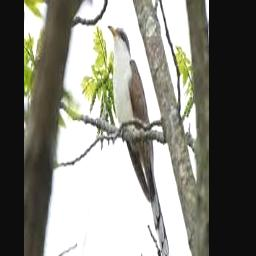Cuckoo: (106, 25, 168, 256)
